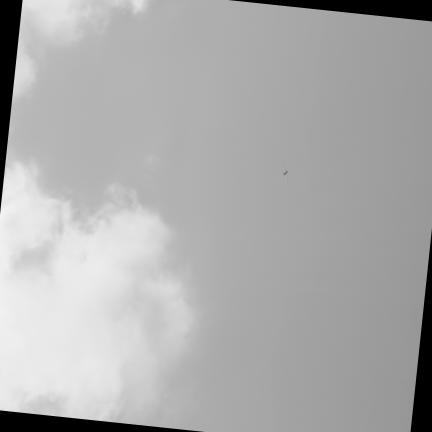Shahed: (282, 158, 288, 189)
